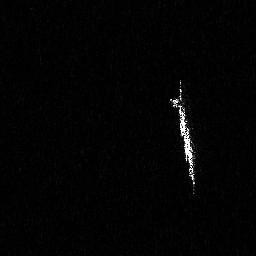ship: (166, 74, 201, 199)
